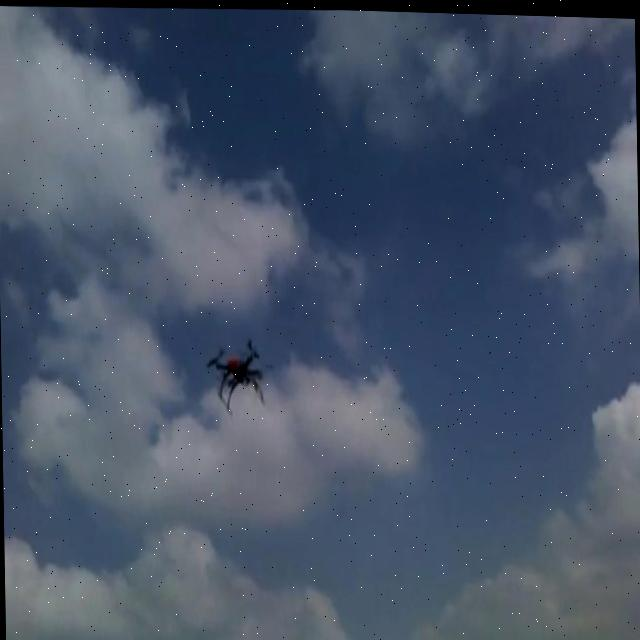drone: (202, 326, 274, 414)
